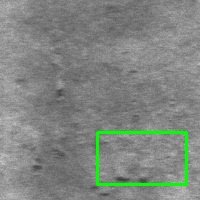rolled-in_scale: (97, 132, 186, 184)
